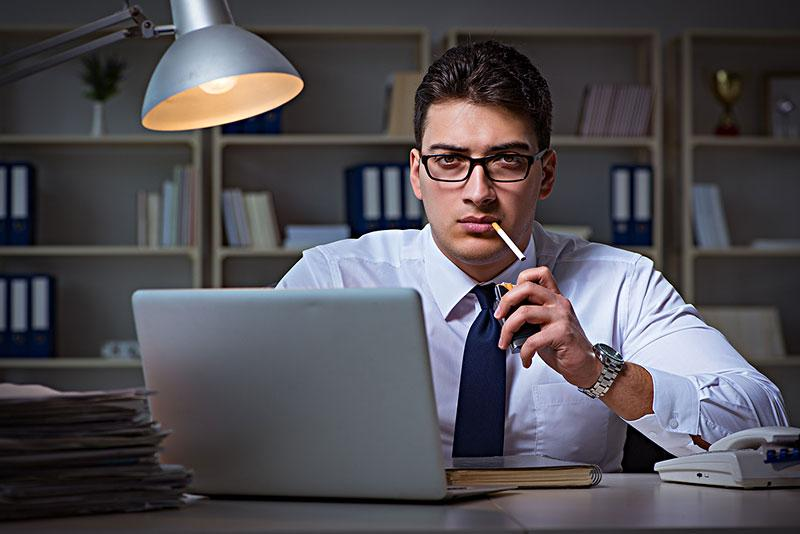smoke: (487, 208, 528, 266)
